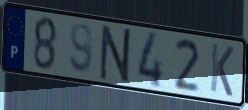2: (173, 37, 201, 93)
4: (135, 29, 166, 91)
8: (32, 15, 59, 72)
9: (68, 22, 95, 76)
K: (209, 41, 236, 100)
N: (97, 23, 136, 86)
